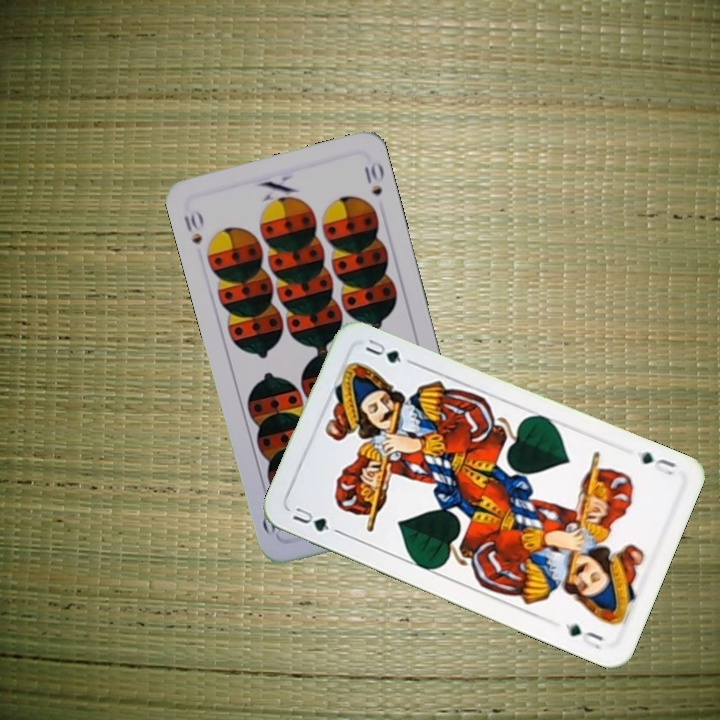GU: (288, 503, 332, 535), (637, 447, 680, 478)
S10: (179, 206, 206, 247)
